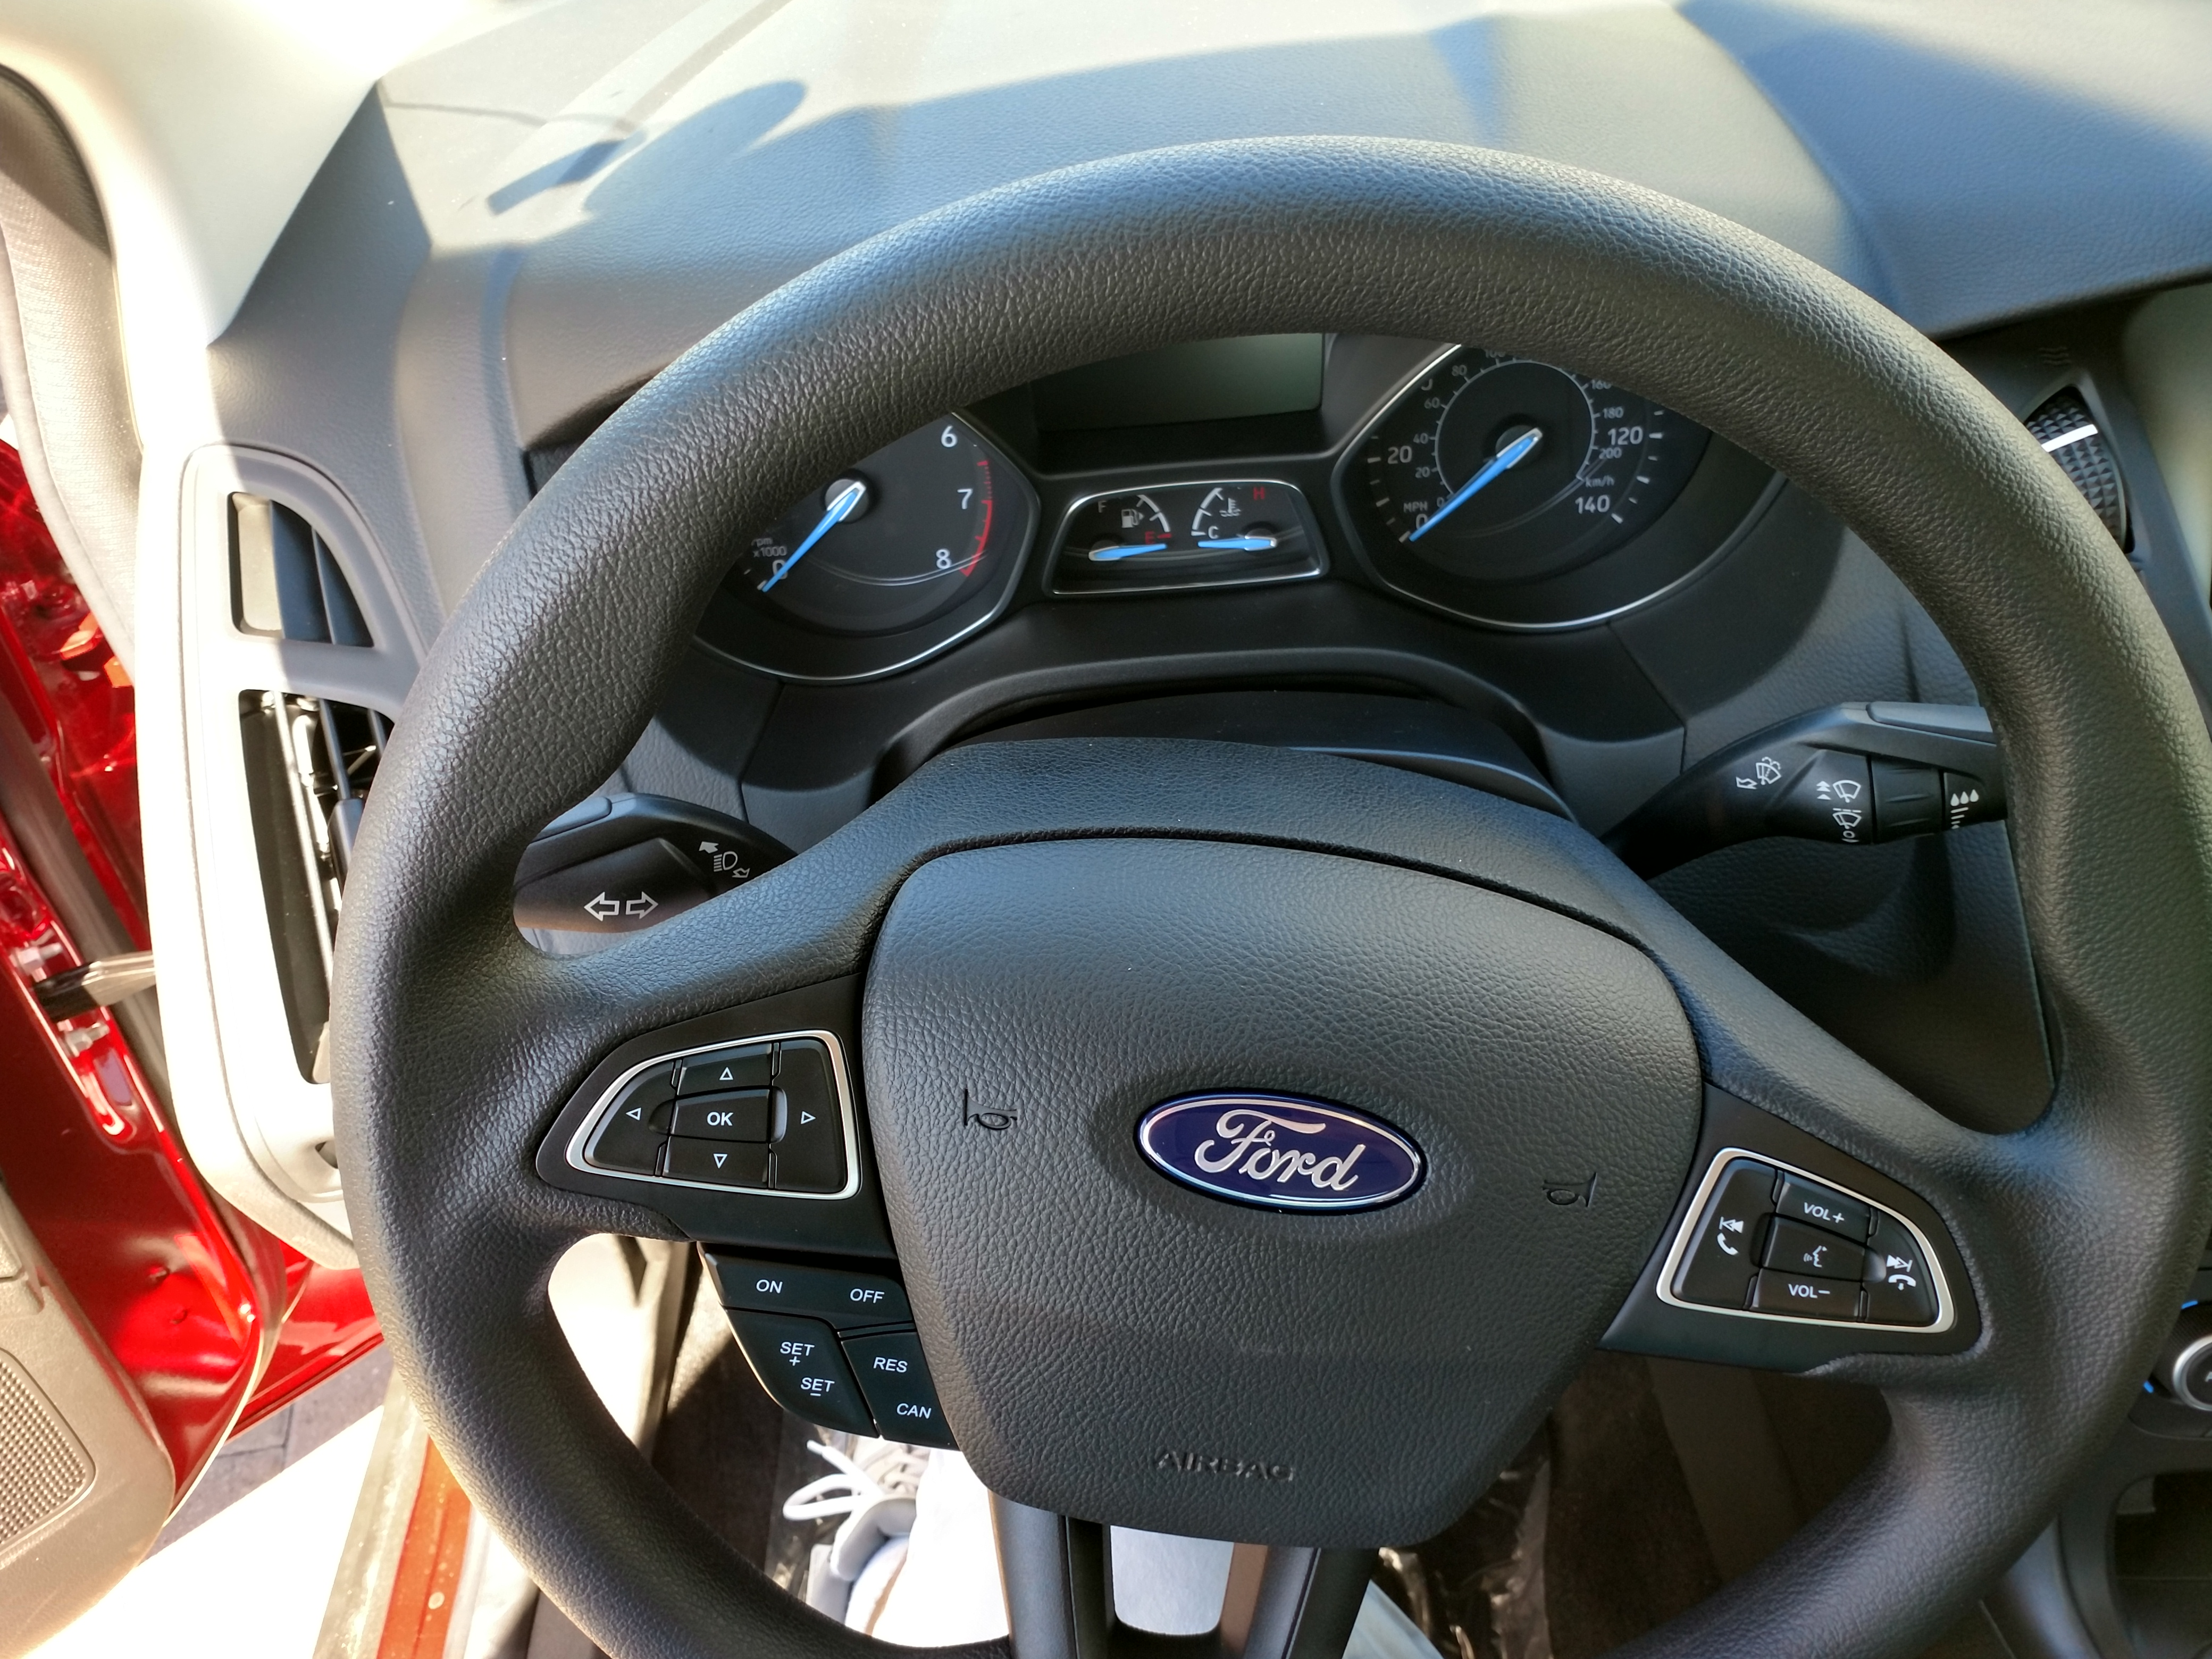Ford: (1122, 1075, 1442, 1223)
